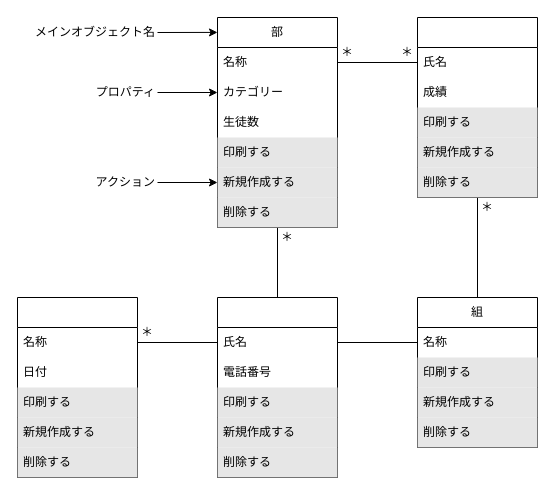
This 555x495 diagram has some shape labels left out. Here are the shapes that lost their labels. From the top down, the box of each, then its label:
(416, 16, 538, 198): 生徒
(16, 296, 138, 478): イベント
(216, 296, 338, 478): 教員
